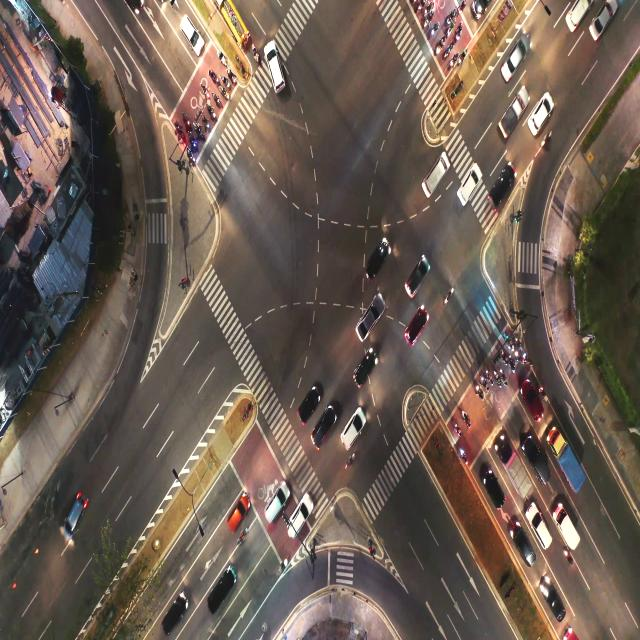bus: (226, 8, 242, 35)
car: (371, 236, 390, 281), (209, 578, 234, 610), (503, 42, 525, 76), (361, 304, 380, 338), (535, 95, 550, 133), (167, 596, 182, 631), (532, 517, 550, 546), (66, 499, 79, 536), (340, 422, 359, 447), (268, 50, 281, 86), (488, 482, 504, 511), (358, 358, 372, 391), (495, 172, 508, 207), (182, 17, 200, 42), (408, 315, 423, 345), (299, 393, 316, 419), (230, 498, 244, 529), (410, 261, 423, 294), (460, 175, 477, 199), (525, 391, 538, 422), (568, 1, 584, 26), (596, 7, 610, 35), (546, 593, 560, 619), (534, 450, 546, 480), (426, 169, 442, 191), (314, 421, 329, 444), (268, 494, 280, 521), (295, 507, 307, 531), (519, 537, 532, 558)
motorcycle: (346, 452, 356, 470), (540, 132, 551, 148), (445, 286, 454, 305), (538, 382, 546, 400), (484, 367, 492, 384), (237, 529, 246, 544), (494, 367, 500, 387), (252, 45, 259, 62), (459, 447, 467, 461), (187, 150, 196, 162), (194, 125, 202, 138), (219, 87, 228, 98), (523, 352, 530, 366), (459, 0, 466, 14), (458, 52, 466, 64), (456, 26, 462, 42), (213, 93, 220, 106), (500, 349, 506, 364), (219, 52, 226, 64), (280, 559, 286, 573), (514, 334, 520, 348), (435, 44, 442, 56), (202, 117, 208, 130), (463, 412, 469, 425), (476, 385, 482, 398), (481, 377, 487, 390), (209, 109, 216, 120), (446, 27, 453, 38), (423, 18, 430, 29), (508, 355, 513, 370), (444, 46, 450, 58), (190, 138, 197, 148), (430, 27, 437, 37), (176, 123, 181, 136), (212, 74, 217, 87), (508, 337, 513, 350), (423, 6, 430, 15), (454, 424, 459, 436), (500, 367, 504, 382), (416, 4, 422, 14), (447, 14, 453, 23), (514, 350, 519, 359), (205, 88, 209, 99), (450, 57, 454, 68), (186, 118, 190, 127), (223, 75, 226, 87), (230, 73, 234, 82)
truck: (502, 98, 524, 140), (560, 433, 576, 479), (508, 453, 523, 487), (562, 514, 574, 542)
